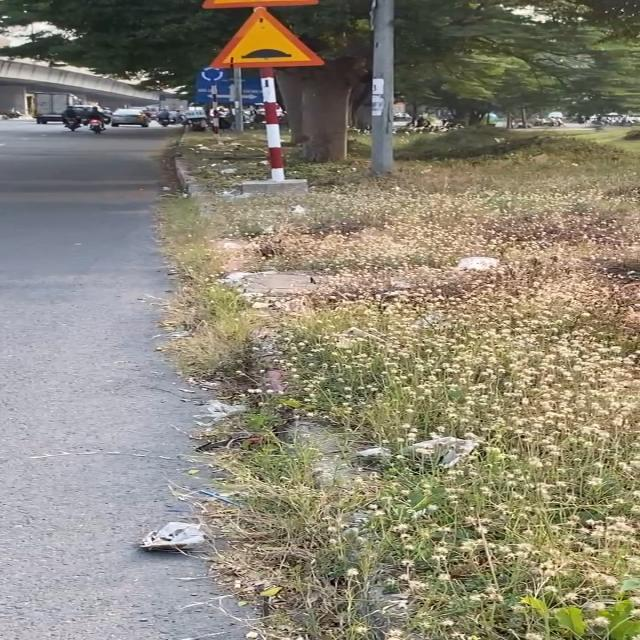221-duong-go-ghe: (208, 9, 325, 69)
303-noi-giao-nhau-chay-theo-vong-xuyen: (200, 64, 224, 82)
